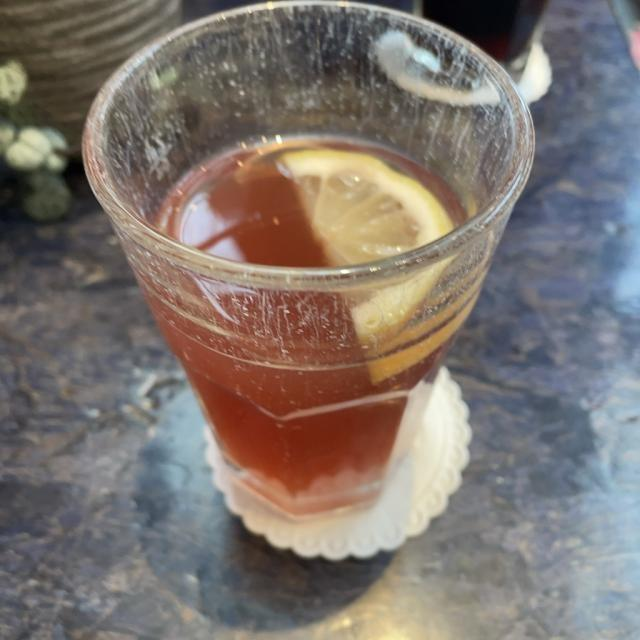ice-tea: (132, 134, 483, 522)
